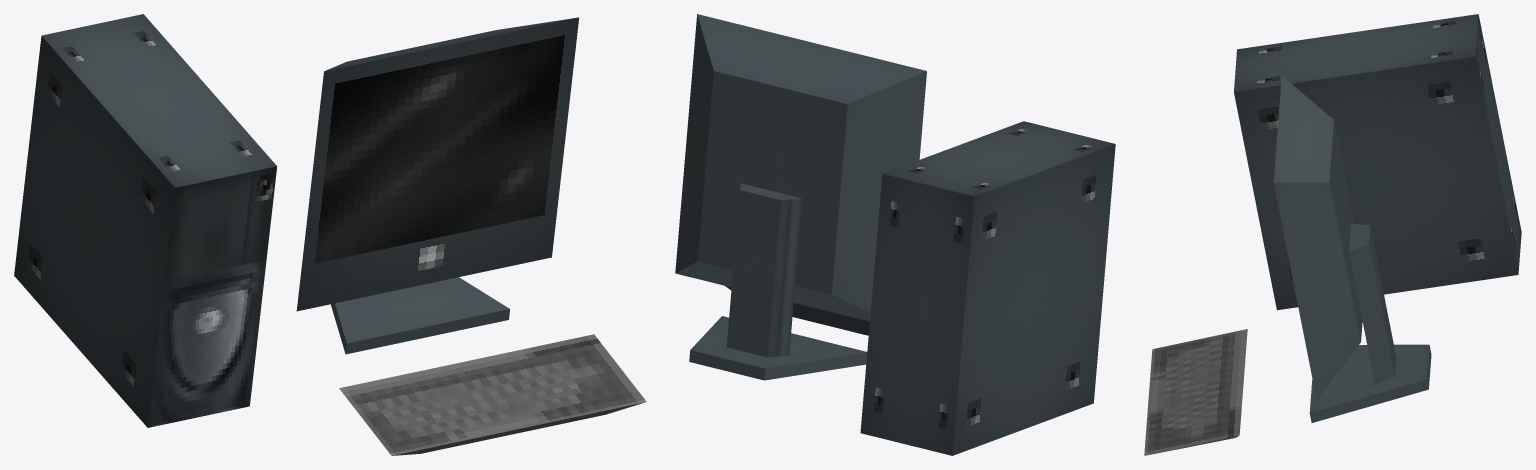
File: dell.fbx
3 views of the same model, side by side, from view 1: azimuth 30°, elevation 25°; view 2: azimuth 150°, elevation 25°; view 3: azimuth 270°, elevation 25° (orthographic). The views are drawn at different scales.
Visible parts, largest first — view 1: dell; view 2: dell; view 3: dell.
Boxes of the visible parts, box(x1,y1,x2,y2) form: dell: box(14, 14, 646, 455); dell: box(675, 14, 1115, 455); dell: box(1144, 14, 1521, 455).
Size of the model in its own units: 65.01 by 49.32 by 58.58.
